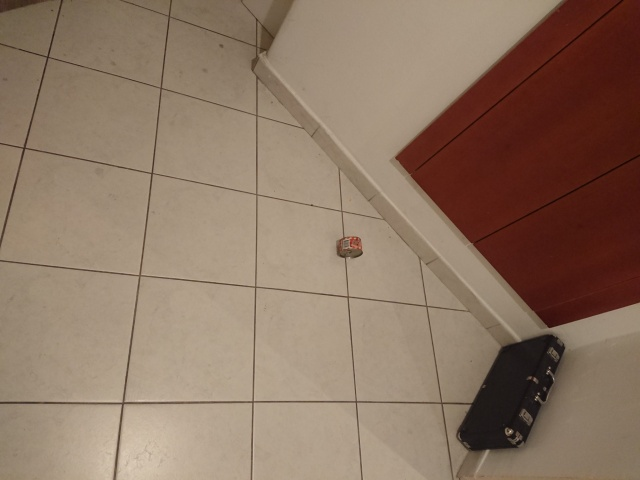Podravka Luncheon Meat 150g: (335, 234, 364, 260)
